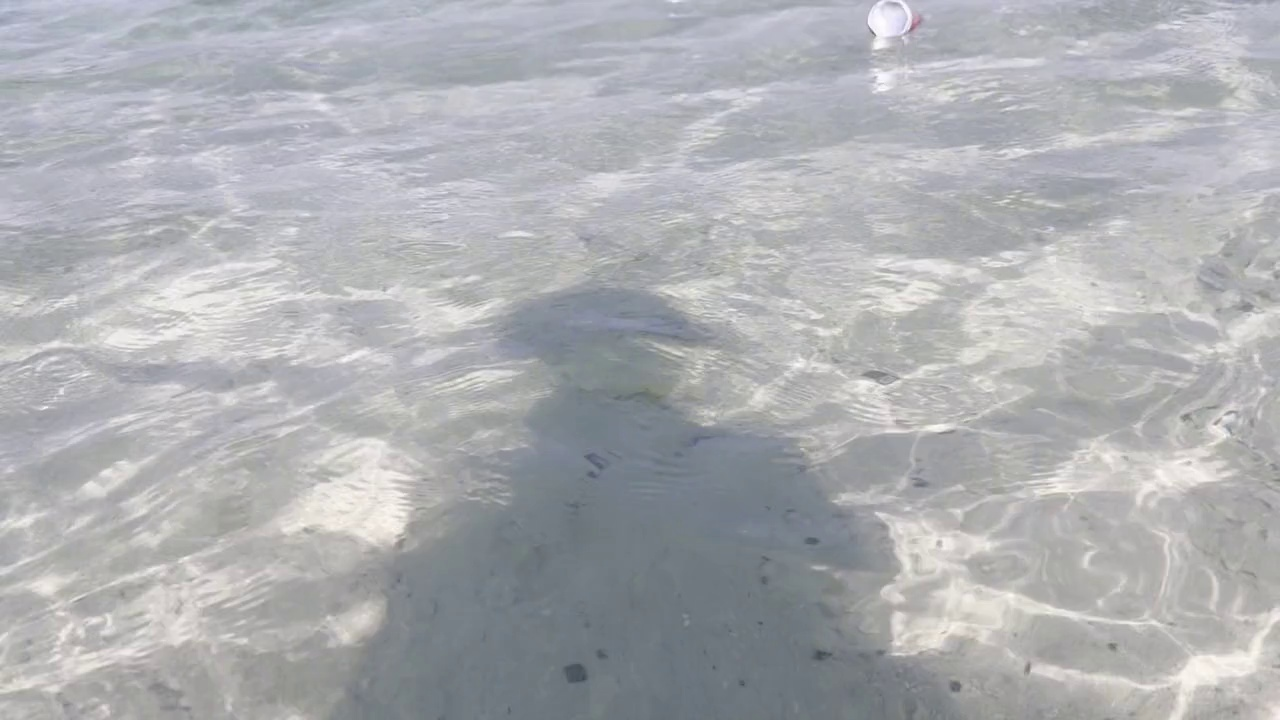debris: (854, 0, 927, 48)
